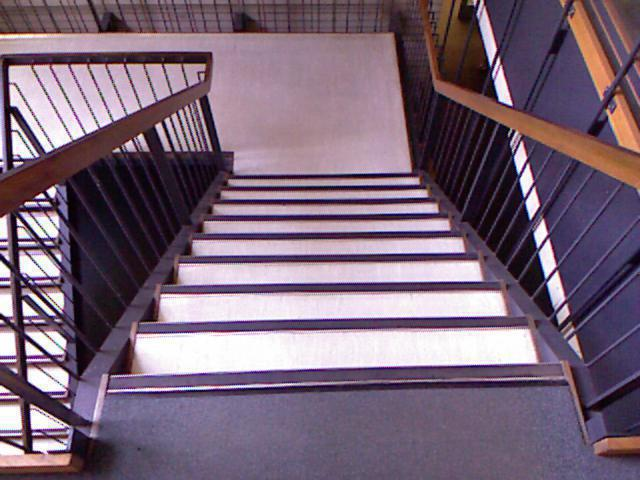Escaleras: (149, 169, 575, 396), (0, 142, 79, 471)
